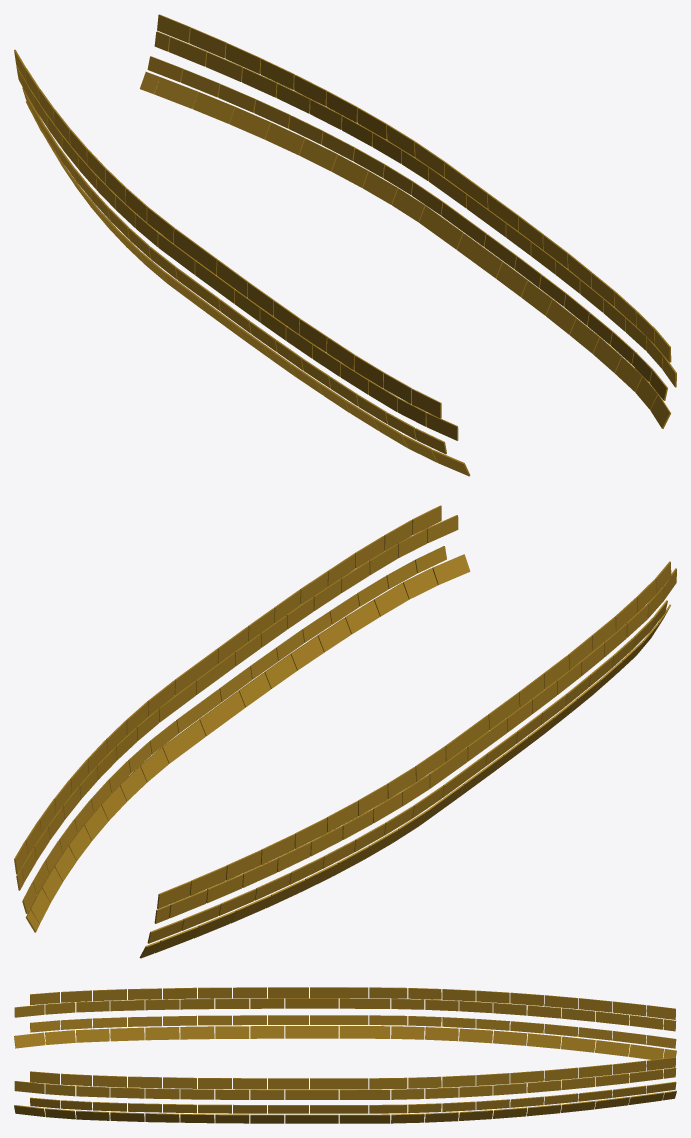
File: amelioration--blindage-bronze.glb
3 views of the same model, one above another, from view 1: azimuth 30°, elevation 25°; view 2: azimuth 150°, elevation 25°; view 3: azimuth 270°, elevation 25° (orthographic). The views are drawn at different scales.
Parts seen in each view (by area): view 1: plaques, sans-sabord; view 2: plaques, sans-sabord; view 3: plaques, sans-sabord.
Boxes of the visible parts, bbox=[...] form: plaques: bbox=[14, 14, 676, 476]; sans-sabord: bbox=[87, 91, 626, 394]; plaques: bbox=[14, 505, 676, 958]; sans-sabord: bbox=[87, 553, 626, 839]; plaques: bbox=[14, 988, 676, 1123]; sans-sabord: bbox=[110, 987, 509, 1099].
Size of the model in its own units: 9.59 by 2.35 by 29.26.
